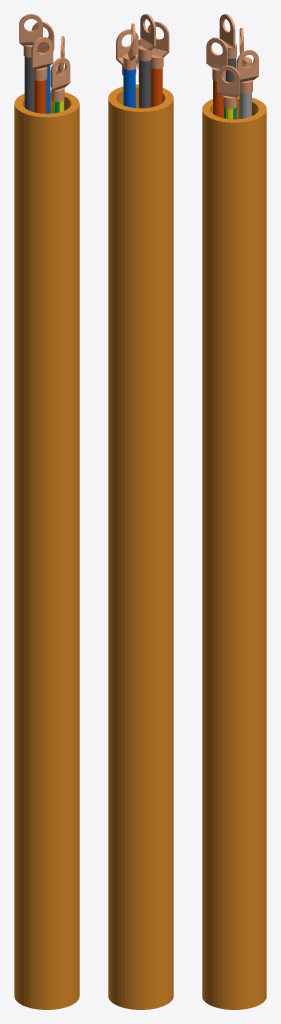
Rendered from conduit-wiring-final.glb.
3 renders of one model, left to right at view 1: azimuth 30°, elevation 25°; view 2: azimuth 150°, elevation 25°; view 3: azimuth 330°, elevation 25°, orthographic.
Parts seen in each view (by area): view 1: wiring, lug.001, lug, lug.002, darkgrey-L2, red-L1, lug.004, blue-N; view 2: wiring, lug.002, darkgrey-L2, lug.001, blue-N, red-L1, lug.003, lug.004; view 3: wiring, lug, lug.003, lug.001, lug.002, lightgrey-L3, red-L1, lug.004, darkgrey-L2.
Boxes of the visible parts, box(x1,y1,x2,y2) form: wiring: box(14, 90, 79, 1009); lug.001: box(31, 37, 53, 80); lug: box(50, 57, 70, 101); lug.002: box(19, 14, 42, 57); darkgrey-L2: box(24, 57, 34, 111); red-L1: box(34, 80, 46, 113); lug.004: box(31, 21, 54, 54); blue-N: box(46, 66, 50, 113); wiring: box(108, 84, 173, 1009); lug.002: box(138, 14, 155, 61); darkgrey-L2: box(139, 59, 151, 108); lug.001: box(147, 21, 169, 68); blue-N: box(123, 68, 135, 107); red-L1: box(151, 68, 162, 107); lug.003: box(116, 29, 138, 75); lug.004: box(123, 23, 135, 70); wiring: box(202, 96, 266, 1009); lug: box(217, 65, 240, 108); lug.003: box(236, 50, 258, 93); lug.001: box(206, 37, 227, 80); lug.002: box(219, 14, 236, 58); lightgrey-L3: box(240, 92, 251, 118); red-L1: box(213, 80, 223, 118); lug.004: box(239, 28, 251, 66); darkgrey-L2: box(225, 58, 236, 118).
Bounding box in the file's own units: 0.0464 × 0.7727 × 0.0464.
7 materials, 1 textured.
